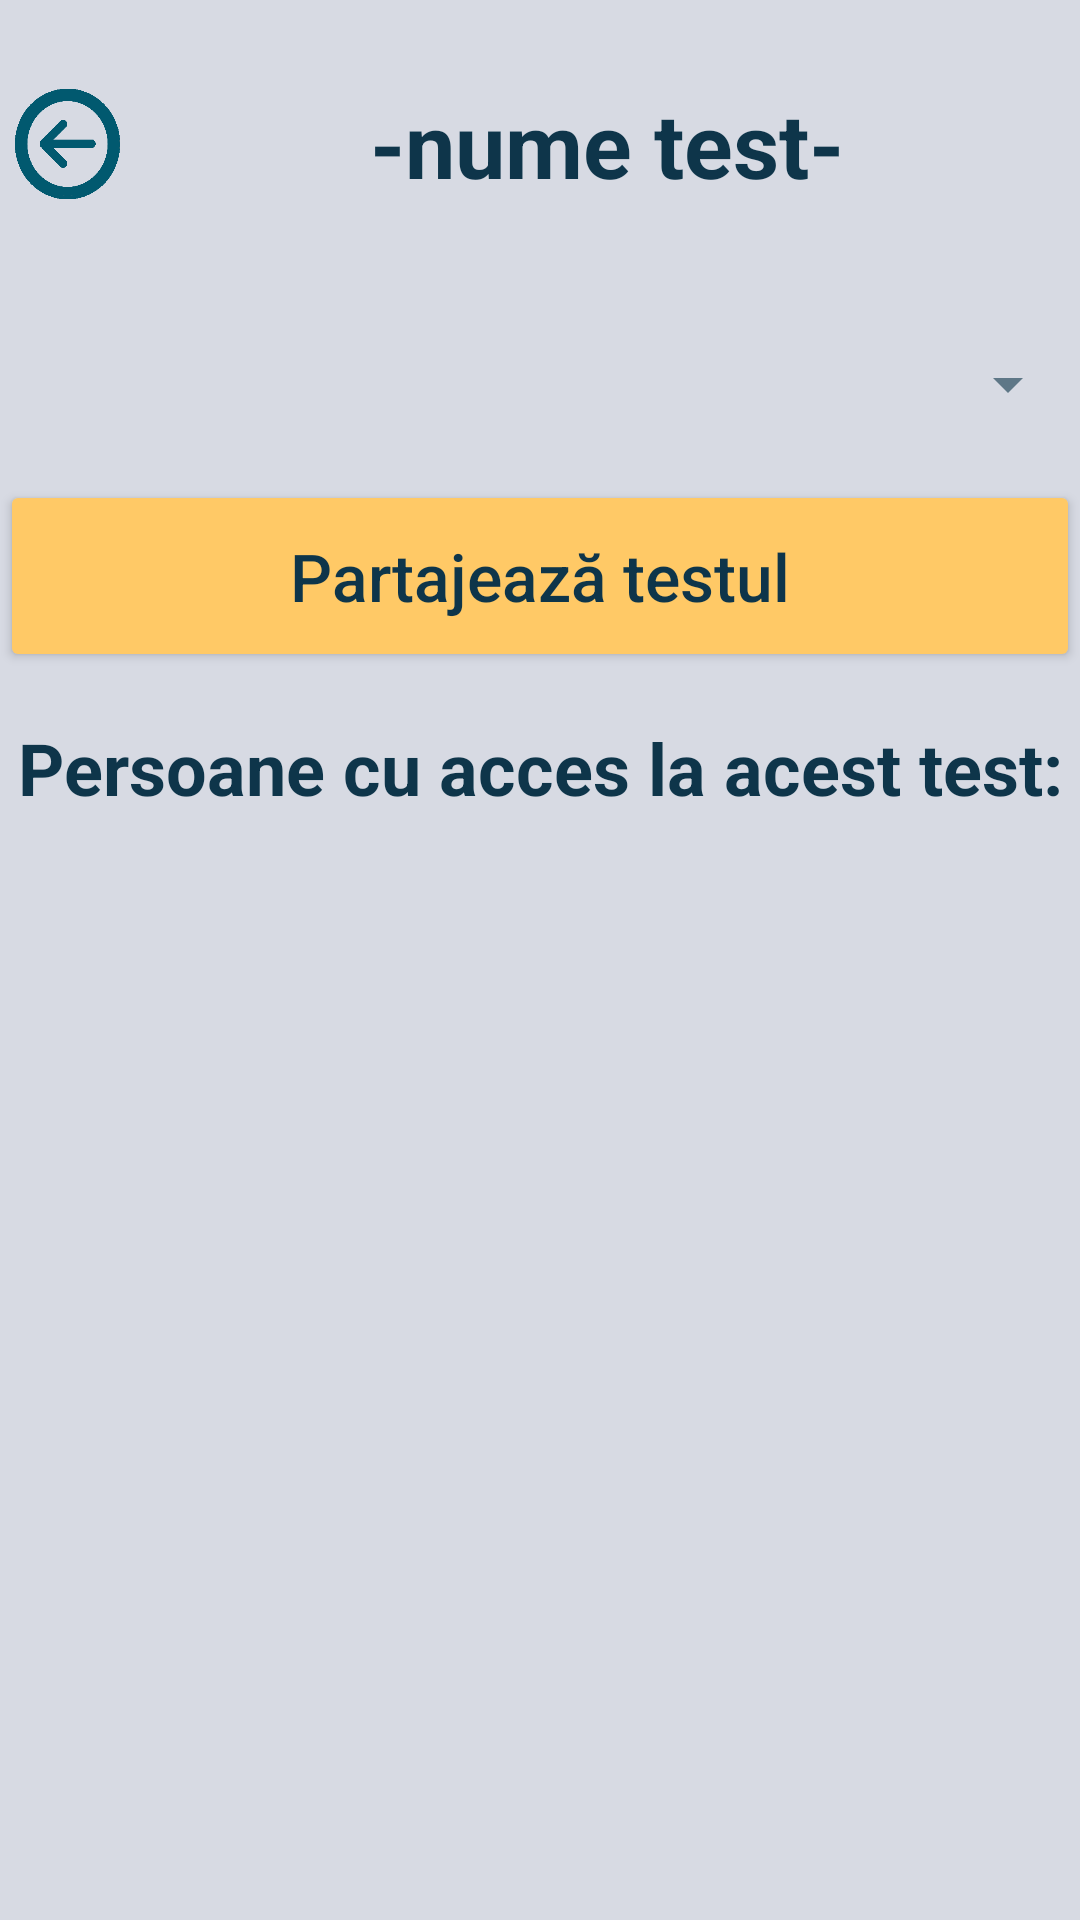

Icons on this 1080*1920 Android screen, each with its box as [x1,y1,x2,y2]:
inapoi: [15,89,120,199]
